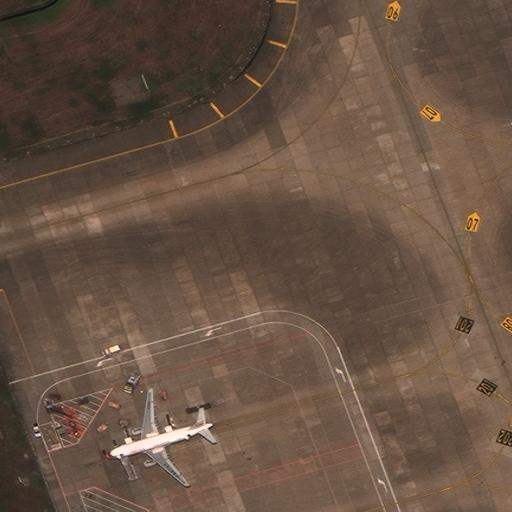Medium Civil Transport: (105, 391, 214, 486)
